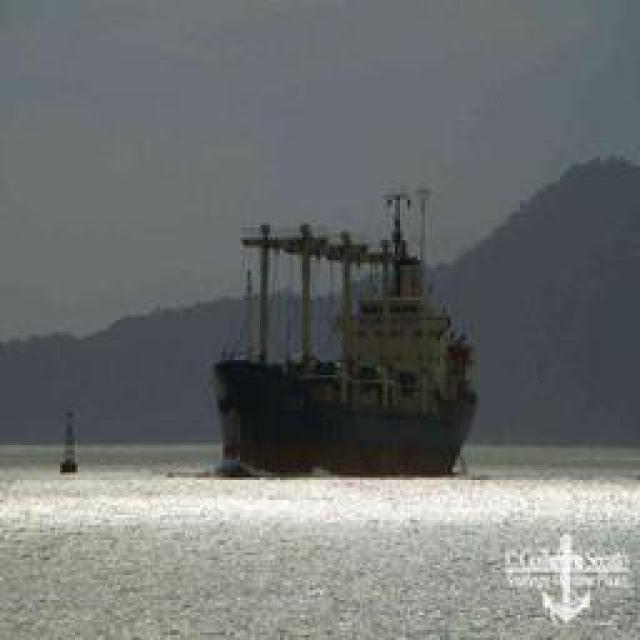Ship: (211, 181, 479, 481)
